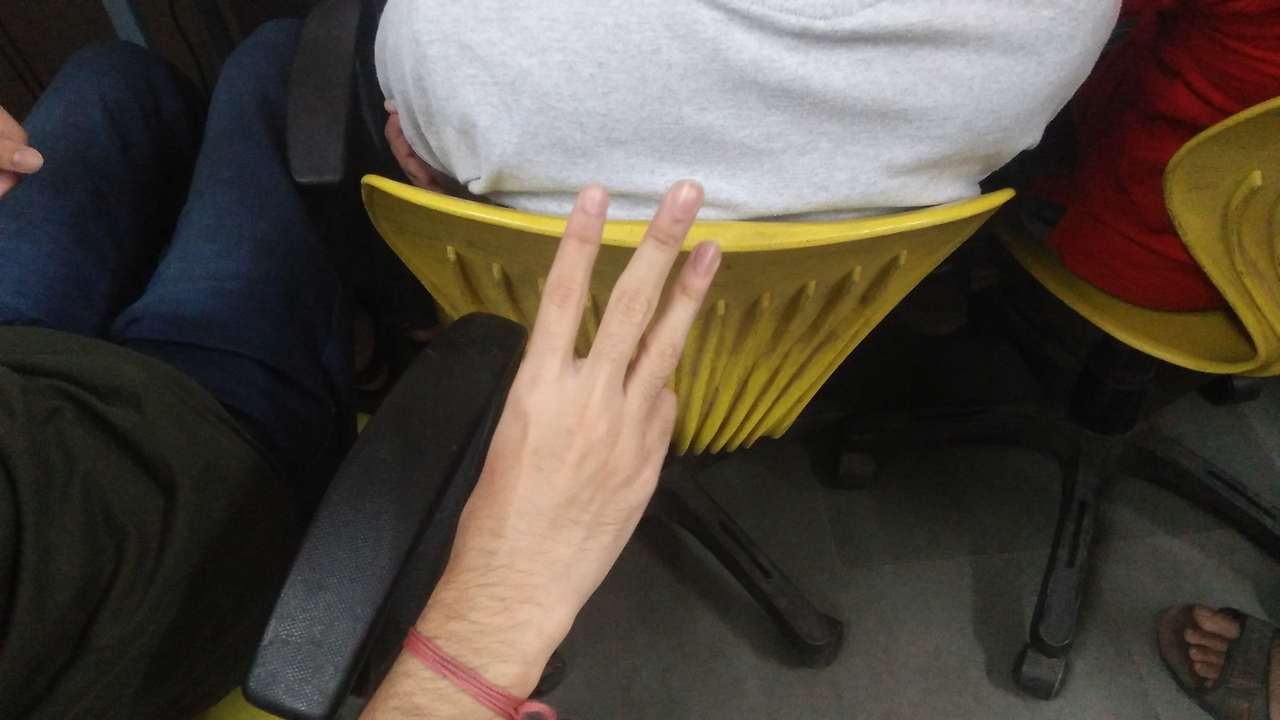fingertip: (648, 170, 716, 226), (560, 170, 618, 226), (683, 241, 725, 279)
